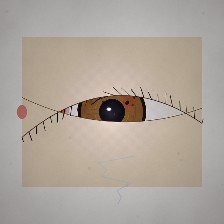foreign_body_visible: (115, 93, 139, 112)
